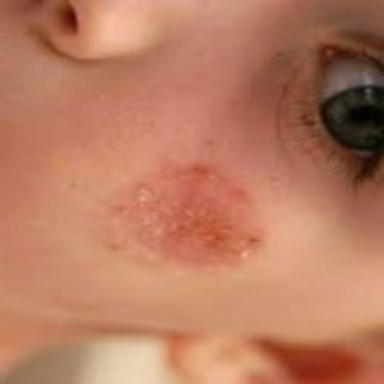Impetigo: (102, 157, 269, 273)
